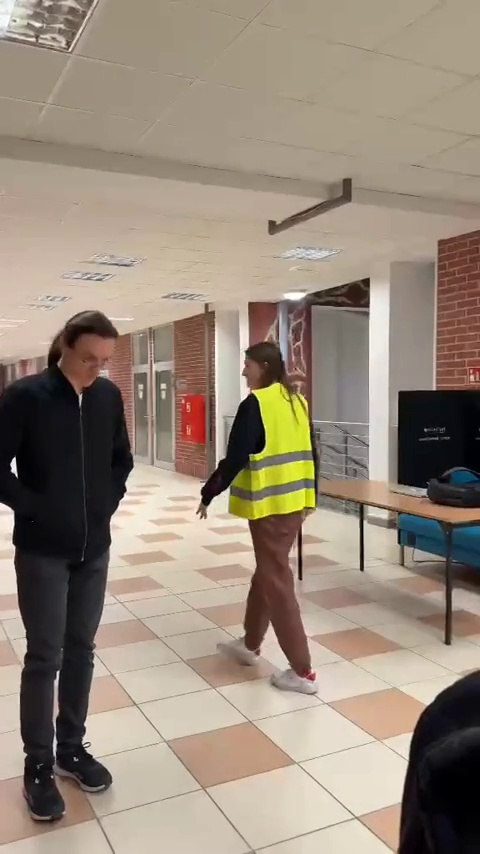no vest: (0, 308, 135, 827)
vest: (193, 340, 331, 697)
